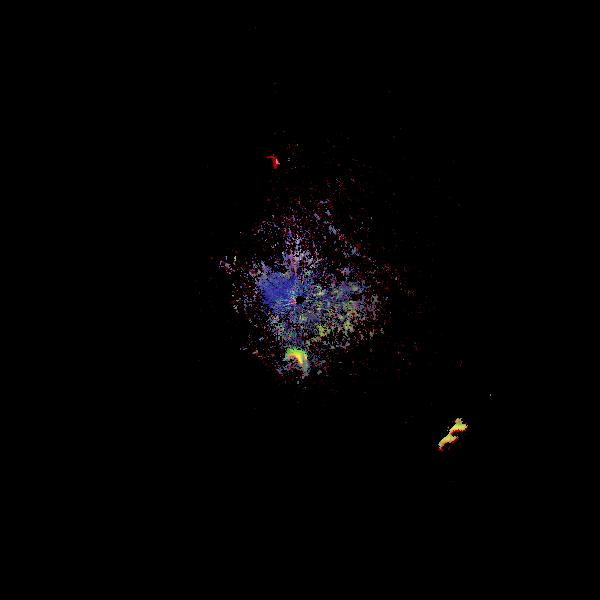roost: (441, 422, 480, 461), (278, 352, 305, 379), (255, 152, 282, 179)
